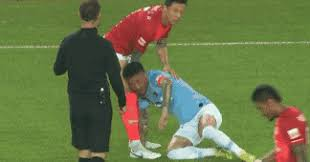fall: (237, 76, 309, 160)
